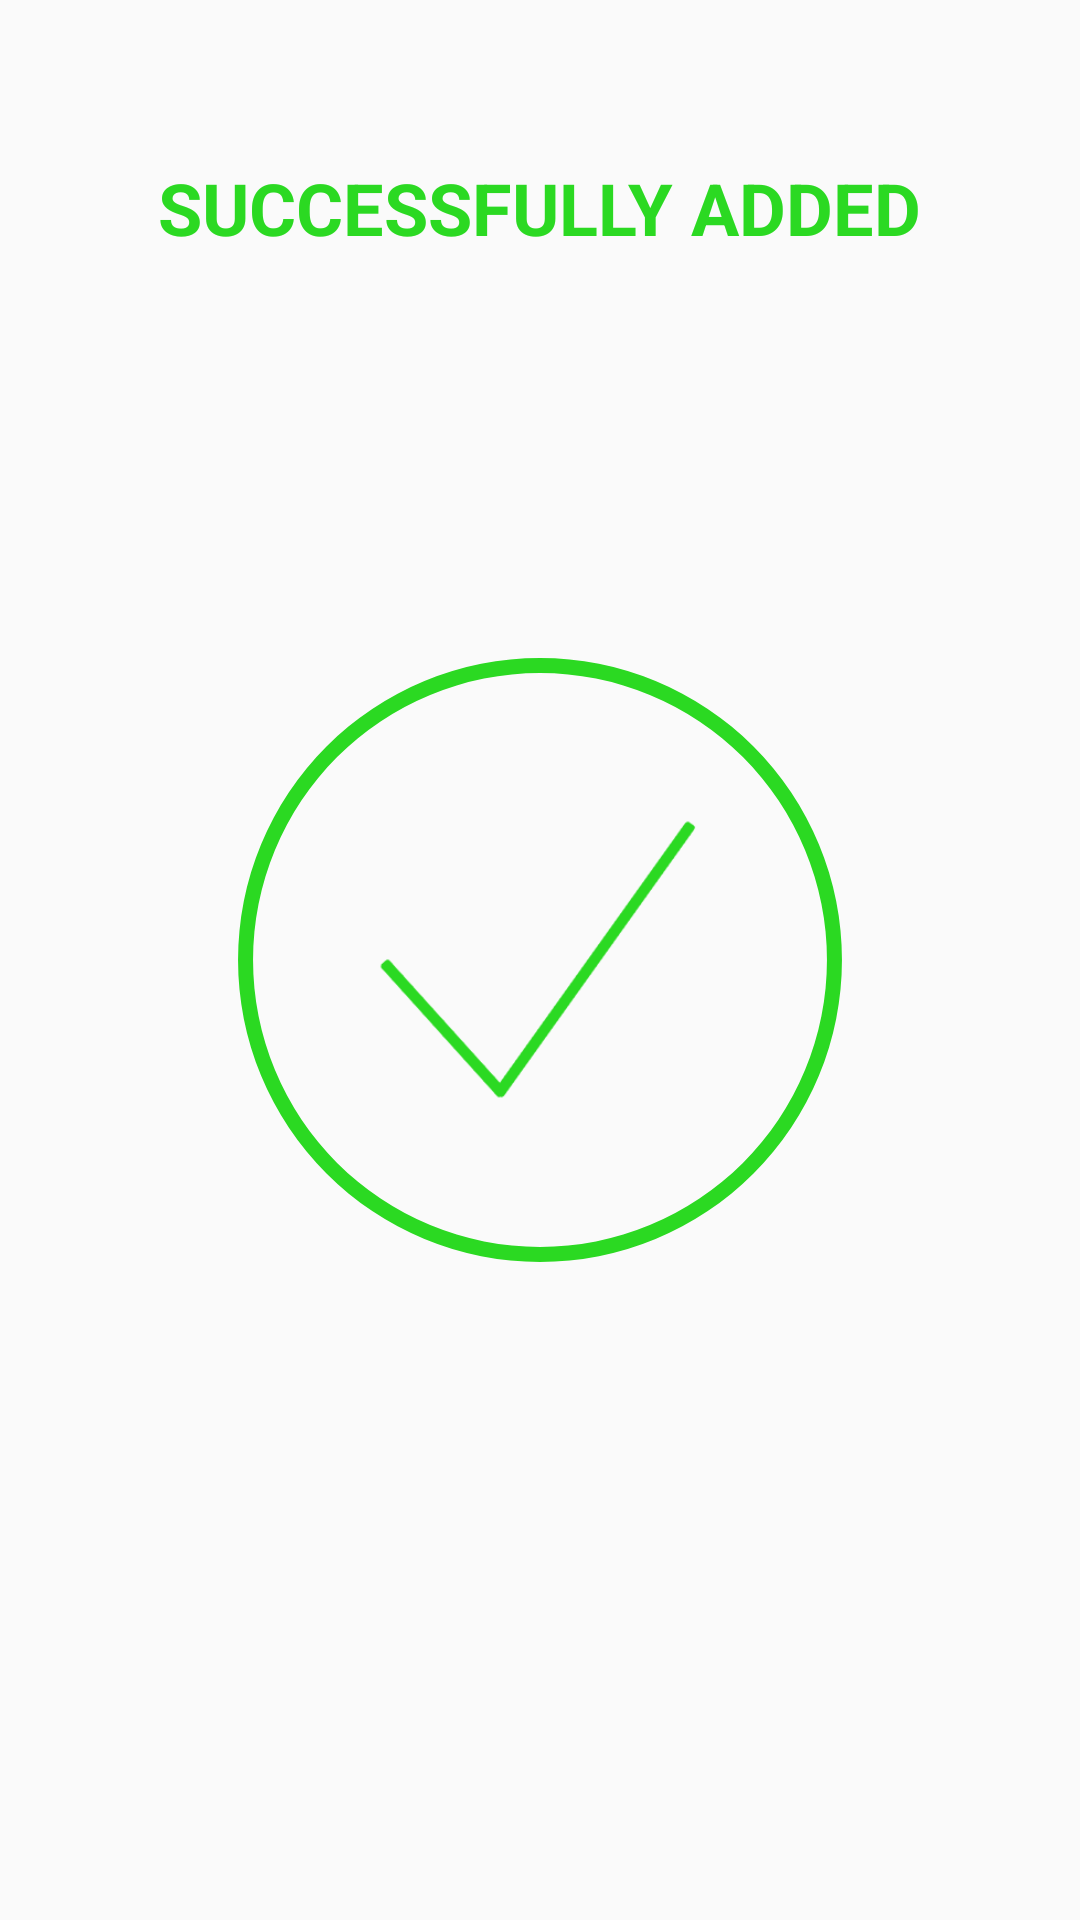

Where to tap for icons on this 1080 x 1920 app screen, as [x,y]:
checkmark borderless: [537,959]
